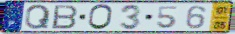3: (119, 4, 143, 31)
5: (155, 5, 180, 29)
6: (186, 5, 208, 30)
B: (51, 4, 80, 30)
O: (87, 3, 114, 31)
Q: (24, 3, 52, 30)
